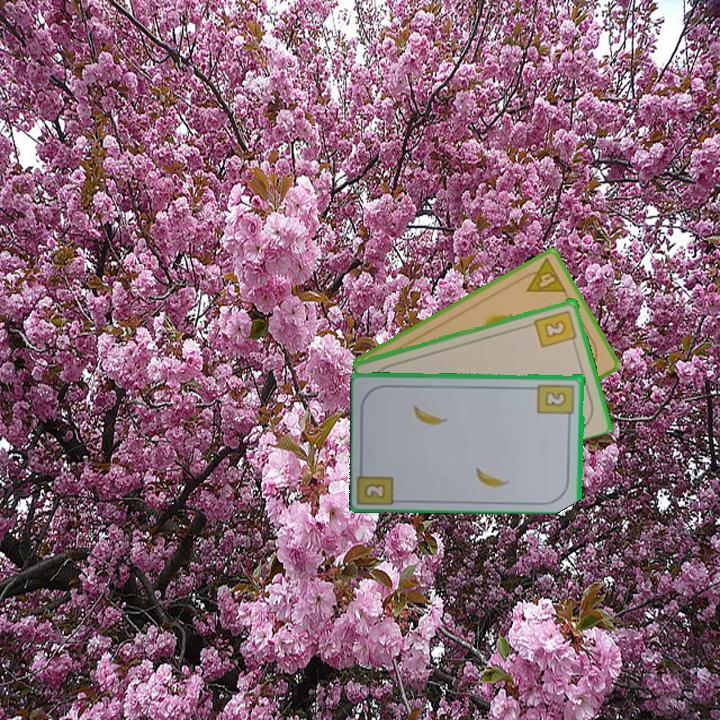2b: (531, 306, 579, 350), (535, 380, 577, 423), (363, 481, 386, 499)
4p: (517, 254, 569, 295)
